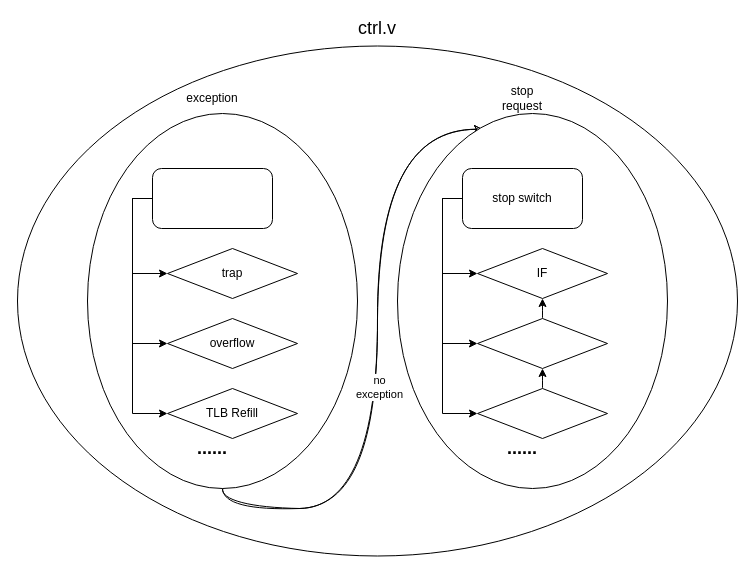
The diagram is 755 pixels wide and 573 high, and some of its shapes have lost their labels. The shapes that lost their labels are listed below. From the top down, each one's box as (x1, y1, x2, y2) in pixels, then its label:
(152, 168, 272, 228): exception switch
(476, 318, 608, 368): ID
(476, 388, 608, 438): EX
